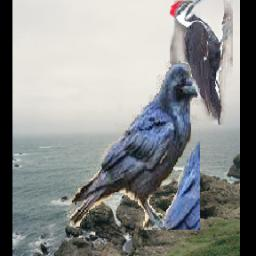Crow: (67, 62, 200, 231)
Woodpecker: (169, 0, 232, 125)
